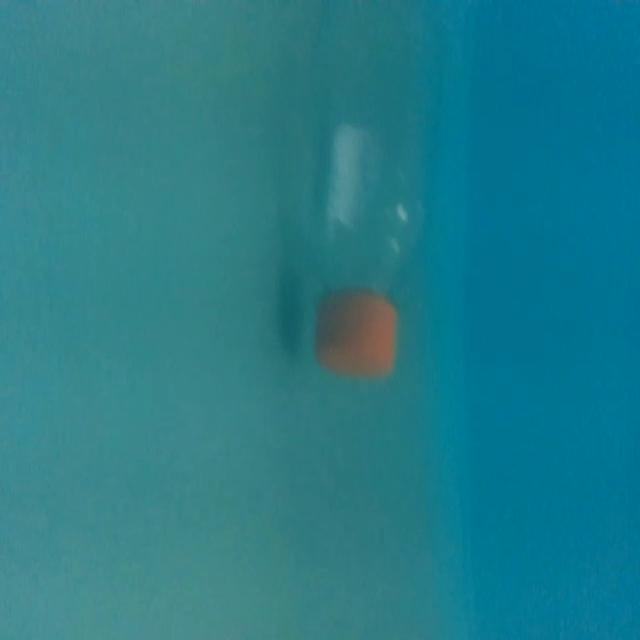plastic bottle: (280, 6, 473, 378)
